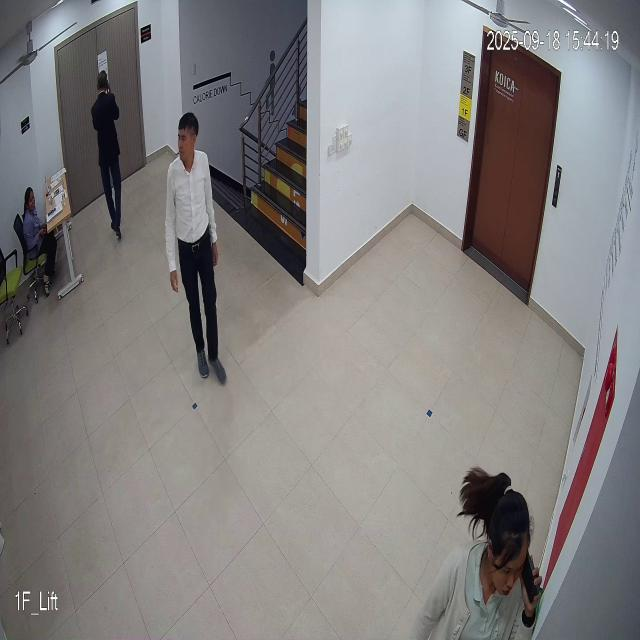face: (176, 112, 198, 164)
